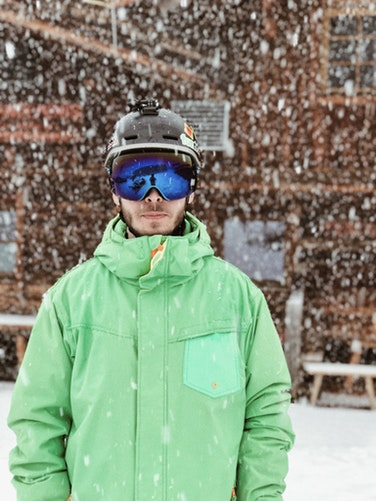helmet: (97, 99, 207, 165)
